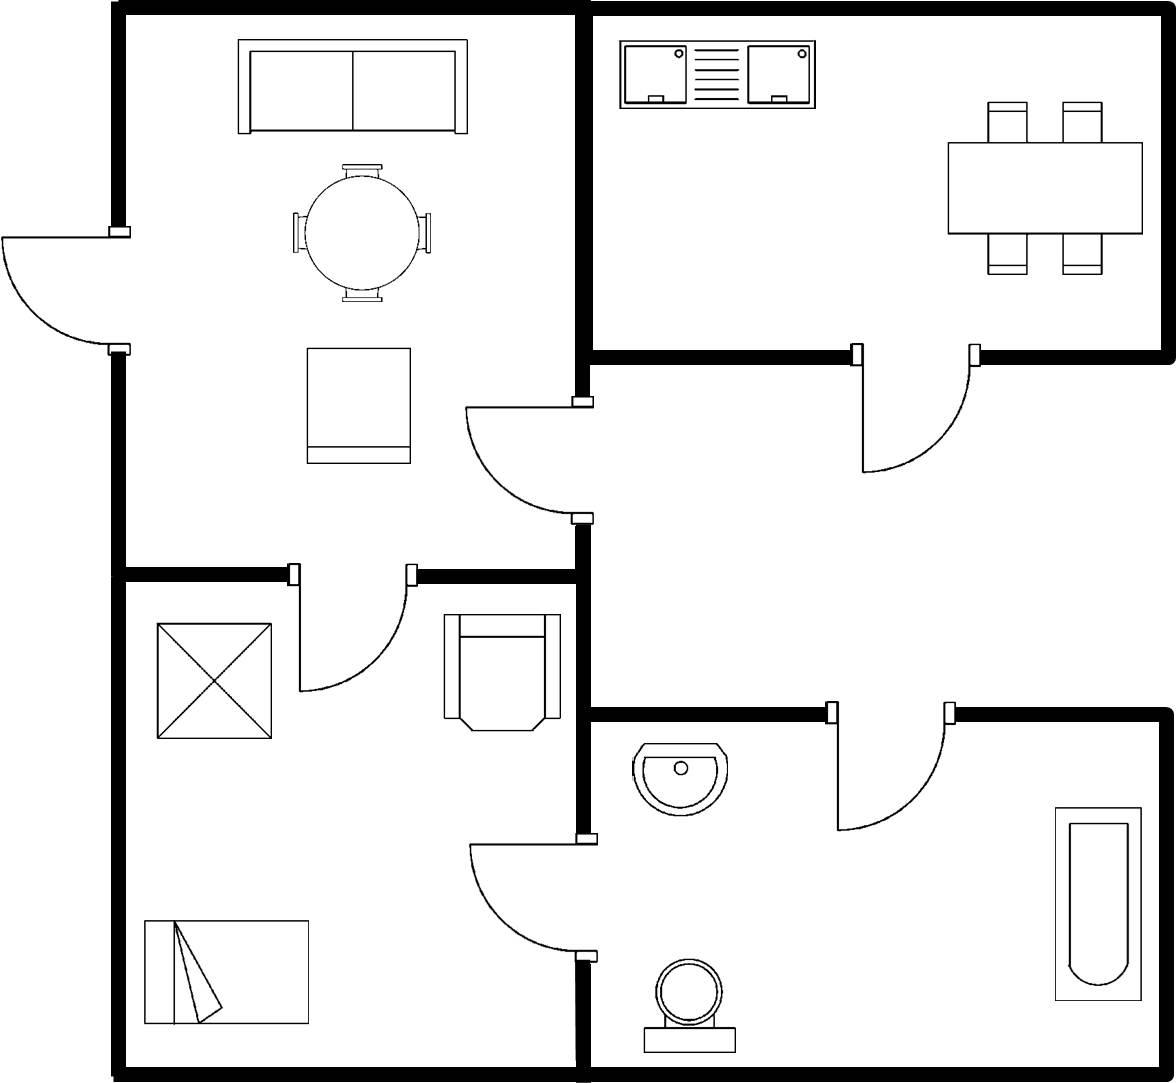sink: (610, 33, 822, 116)
